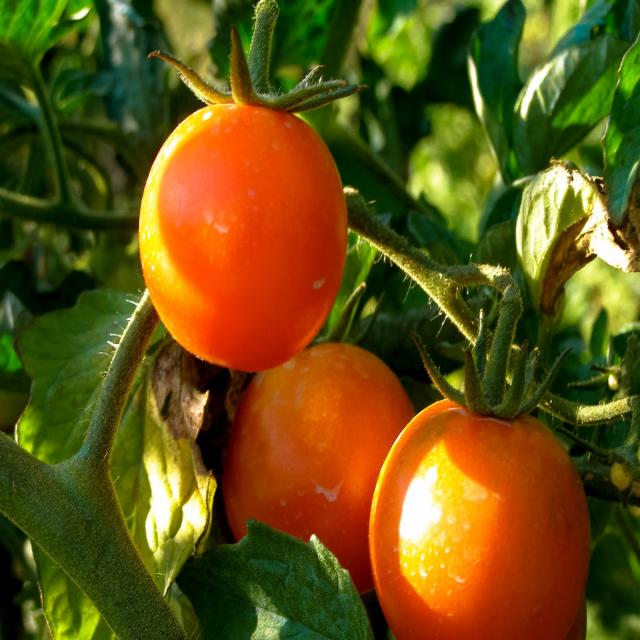tomato: (363, 347, 595, 640), (125, 81, 355, 371)
